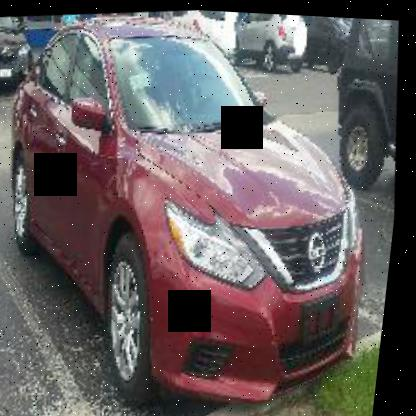not_emergency: (0, 3, 406, 408)
